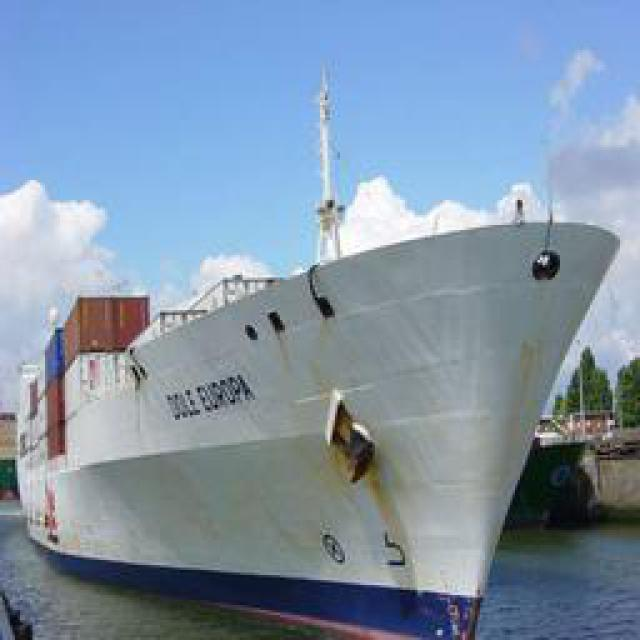Ship: (18, 69, 623, 640)
